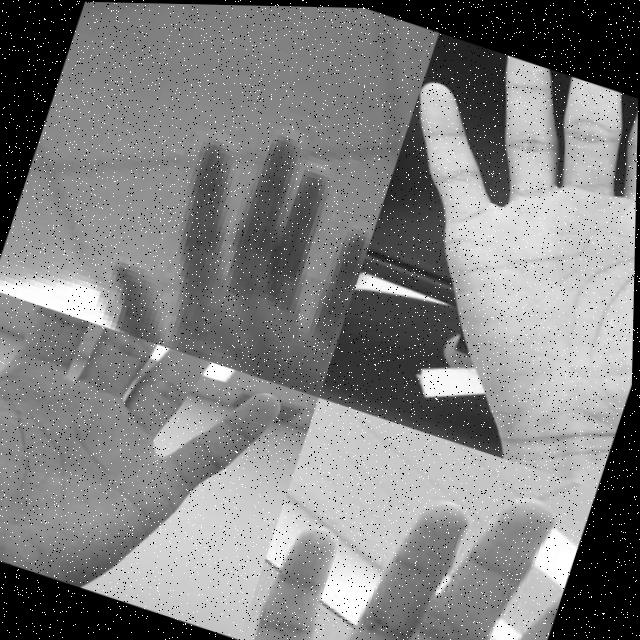hand: (330, 29, 640, 462), (0, 287, 290, 629), (95, 86, 397, 396), (240, 415, 593, 640)
